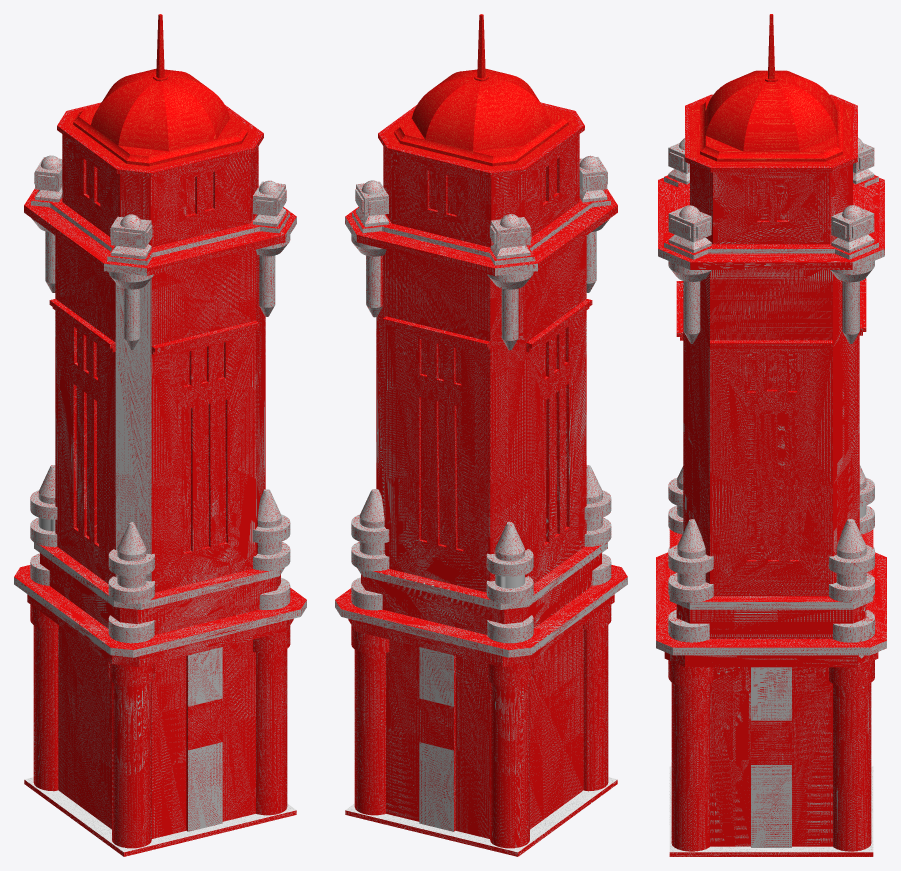
3 renders of one model, left to right at view 1: azimuth 30°, elevation 25°; view 2: azimuth 150°, elevation 25°; view 3: azimuth 270°, elevation 25°, orthographic.
Visible parts, largest first — view 1: mesh1_mesh1-geometry; view 2: mesh1_mesh1-geometry; view 3: mesh1_mesh1-geometry.
Boxes of the visible parts, x1,y1,x2,y2 form: mesh1_mesh1-geometry: (14,14,306,856); mesh1_mesh1-geometry: (335,14,627,856); mesh1_mesh1-geometry: (656,14,886,856).
Size of the model in its own units: 0.2455 by 0.9378 by 0.2455.
